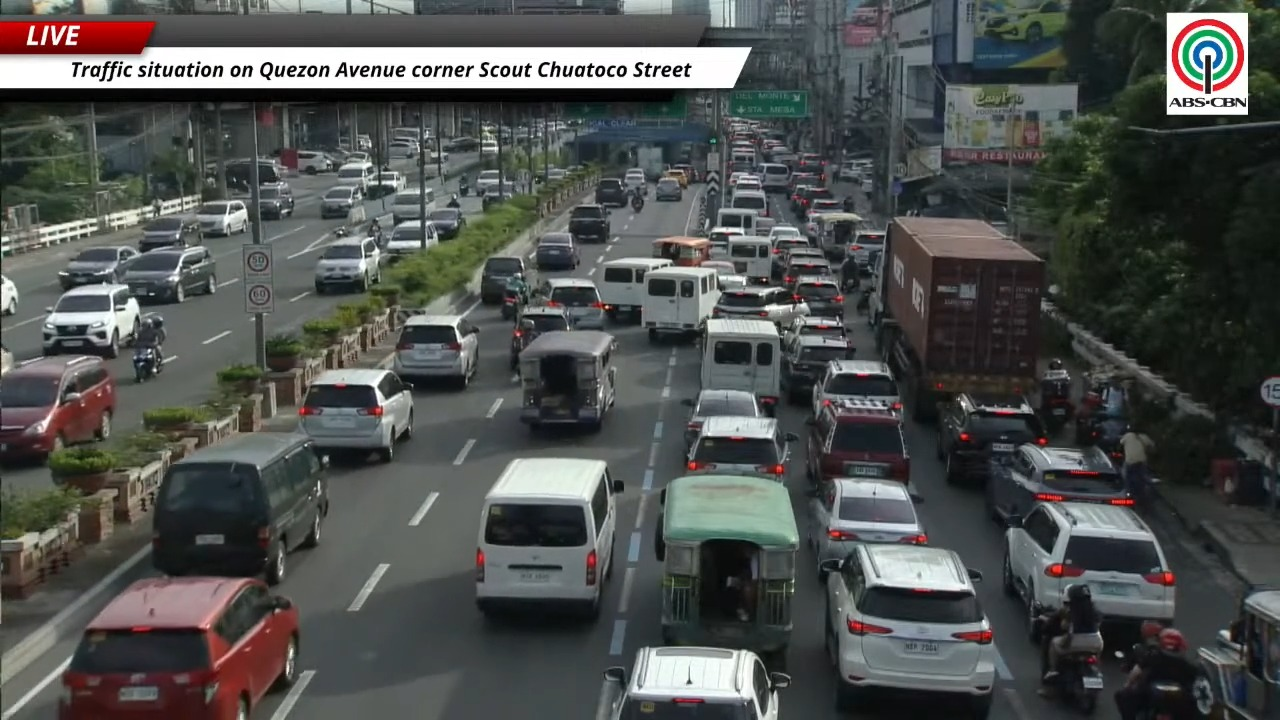car: (57, 578, 300, 719), (821, 543, 997, 719), (151, 433, 329, 584), (1002, 502, 1175, 629), (598, 646, 790, 719), (0, 355, 116, 458), (984, 443, 1133, 520), (299, 368, 413, 461), (807, 478, 927, 564), (936, 393, 1047, 483), (806, 399, 910, 485), (686, 415, 798, 481), (42, 283, 141, 357), (392, 315, 479, 387), (121, 246, 216, 302), (781, 334, 853, 404), (811, 360, 901, 415), (683, 389, 764, 449), (510, 306, 573, 370), (712, 285, 808, 326), (314, 237, 381, 294), (982, 0, 1066, 44), (58, 246, 138, 290), (541, 277, 605, 330), (771, 236, 822, 280), (138, 214, 197, 252), (382, 220, 438, 260), (791, 275, 844, 317), (480, 256, 525, 304), (782, 253, 834, 293), (782, 316, 849, 347), (195, 199, 249, 235), (391, 185, 437, 224), (567, 204, 611, 242), (534, 233, 579, 270), (849, 230, 886, 274), (800, 199, 843, 236), (776, 238, 824, 267), (259, 182, 295, 219), (794, 186, 839, 215), (319, 186, 359, 218), (428, 208, 466, 240), (707, 227, 745, 258), (366, 170, 405, 198), (594, 178, 627, 207), (297, 150, 335, 174), (796, 153, 826, 182), (789, 180, 813, 216), (473, 170, 505, 195), (0, 275, 19, 315), (768, 225, 803, 245), (623, 168, 648, 196), (788, 172, 818, 193), (655, 177, 682, 200), (672, 163, 700, 183), (388, 140, 419, 158), (444, 136, 480, 151), (663, 168, 689, 187), (0, 342, 14, 376), (344, 146, 370, 163), (423, 147, 449, 163), (479, 140, 498, 157), (545, 168, 567, 182)
motorcycle: (1042, 650, 1103, 714), (1043, 652, 1103, 714), (1039, 370, 1073, 433), (1137, 682, 1187, 719), (133, 345, 157, 382), (501, 291, 525, 320), (366, 220, 383, 246), (458, 178, 471, 197), (630, 195, 643, 212), (333, 226, 350, 238)
truck: (869, 217, 1045, 421), (636, 145, 665, 181)
